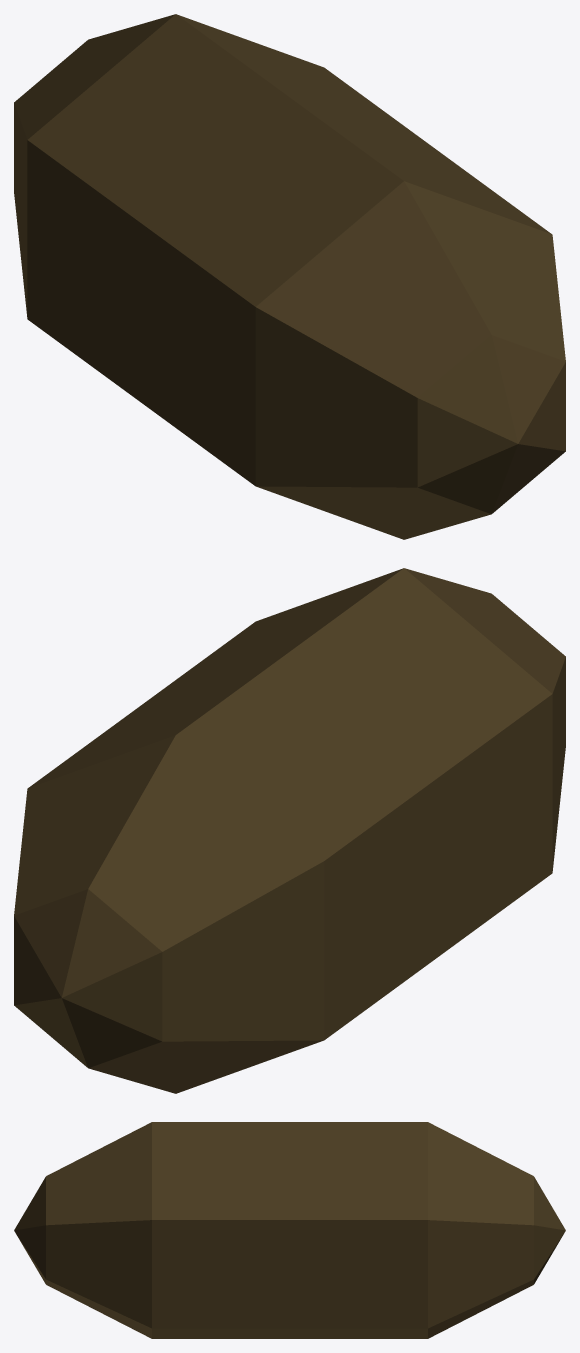
Rendered from Bacteria_Capsule.fbx.
The picture shows the model from 3 angles, top to bottom: view 1: azimuth 30°, elevation 25°; view 2: azimuth 150°, elevation 25°; view 3: azimuth 270°, elevation 25°; orthographic projection. The views are drawn at different scales.
Parts seen in each view (by area): view 1: Bacteria_Capsule; view 2: Bacteria_Capsule; view 3: Bacteria_Capsule.
Part boxes in pixels (x1,y1,x2,y2): Bacteria_Capsule: [14, 14, 565, 539]; Bacteria_Capsule: [14, 568, 565, 1093]; Bacteria_Capsule: [14, 1122, 565, 1338].
Size of the model in its own units: 0.7512 by 0.8674 by 2.
